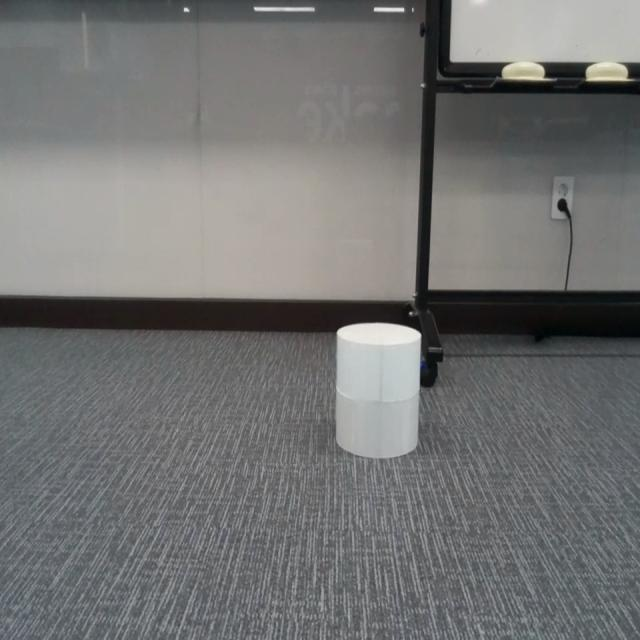cylinder: (335, 321, 422, 458)
